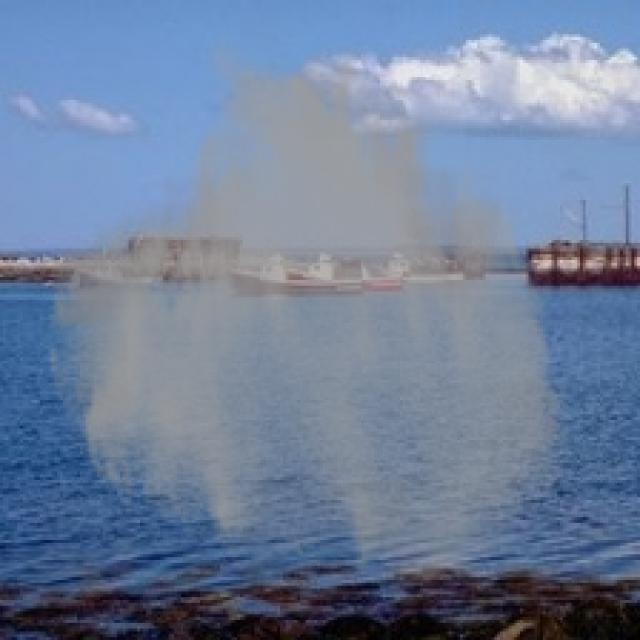smoke: (43, 34, 574, 592)
